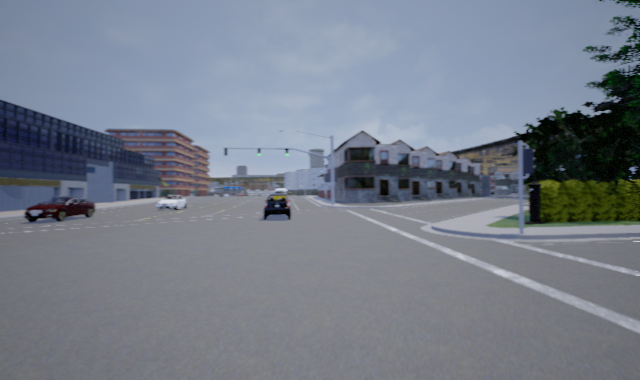vehicle: (23, 196, 94, 223), (261, 192, 292, 220), (156, 194, 188, 210)
